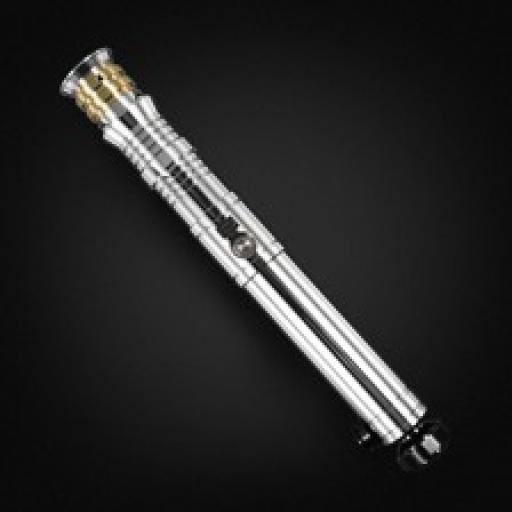lightsaber: (62, 42, 448, 476)
